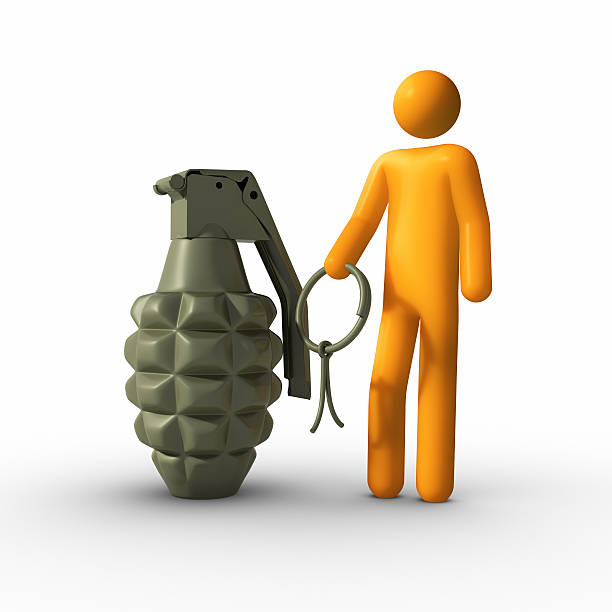e1: (121, 166, 323, 496)
